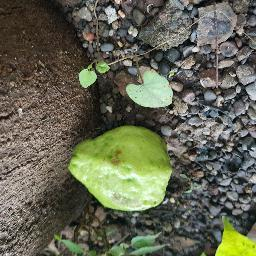Good_guava: (67, 123, 177, 219)
